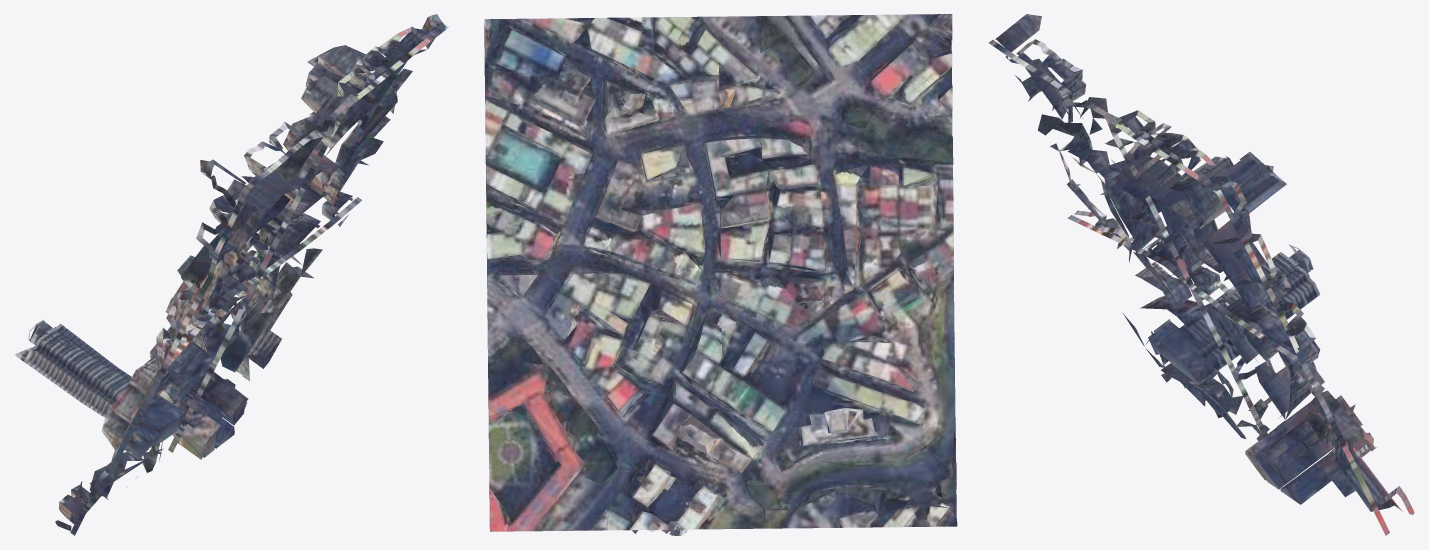
The picture shows the model from 3 angles, left to right: view 1: azimuth 30°, elevation 25°; view 2: azimuth 150°, elevation 25°; view 3: azimuth 270°, elevation 25°; orthographic projection. The views are drawn at different scales.
Size of the model in its own units: 312 by 295 by 276.
Materials: 2 (2 with a texture image).
